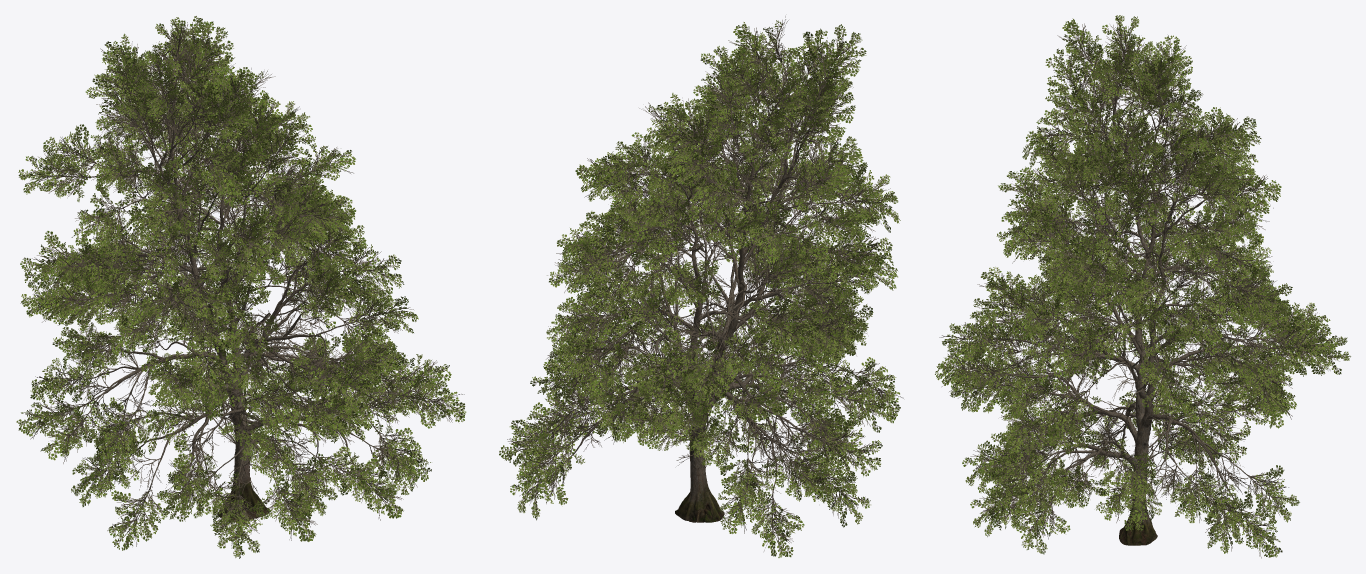
File: SM_BlackAlder_Field_01_PP_LOD1.gltf
3 renders of one model, left to right at view 1: azimuth 30°, elevation 25°; view 2: azimuth 150°, elevation 25°; view 3: azimuth 270°, elevation 25°, orthographic. The views are drawn at different scales.
Parts seen in each view (by area): view 1: SM_BlackAlder_Field_01_PP; view 2: SM_BlackAlder_Field_01_PP; view 3: SM_BlackAlder_Field_01_PP.
Part boxes in pixels (x1,y1,x2,y2): SM_BlackAlder_Field_01_PP: (16, 16, 466, 558); SM_BlackAlder_Field_01_PP: (499, 16, 903, 557); SM_BlackAlder_Field_01_PP: (935, 15, 1350, 558).
Size of the model in its own units: 11.94 by 16.05 by 12.62.
Materials: 4 (4 with a texture image).
